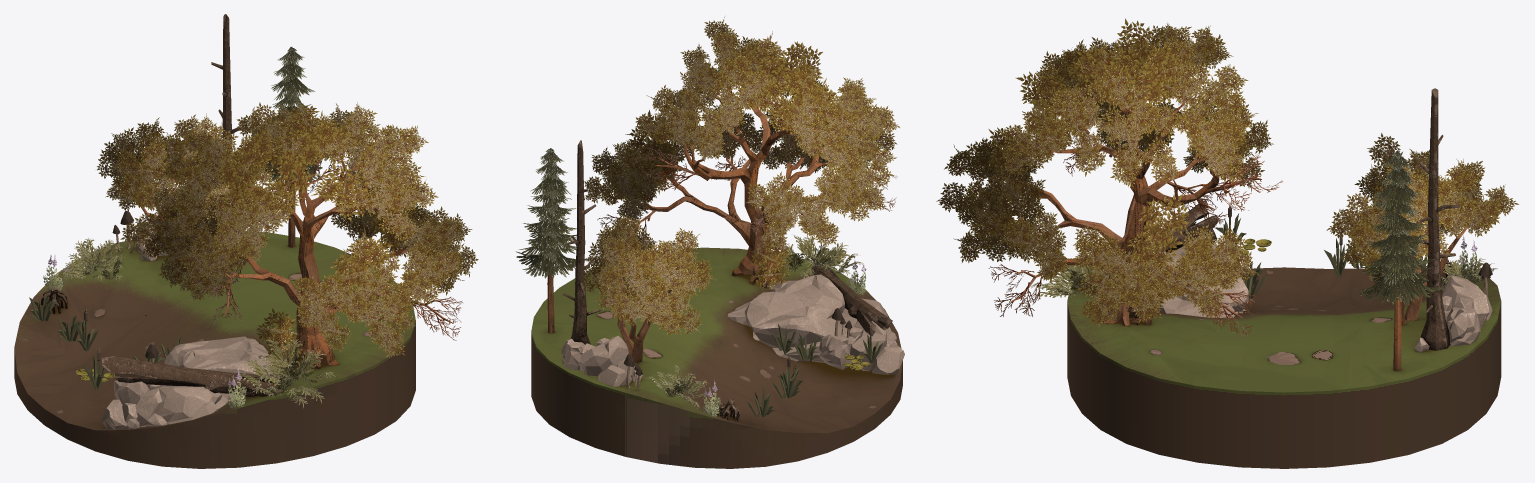
The model's file is lake-environment.glb.
3 renders of one model, left to right at view 1: azimuth 30°, elevation 25°; view 2: azimuth 150°, elevation 25°; view 3: azimuth 270°, elevation 25°, orthographic. The views are drawn at different scales.
Visible parts, largest first — view 1: ground_geo; view 2: ground_geo; view 3: ground_geo.
Part boxes in pixels (bbox=[...]): ground_geo: bbox=[14, 14, 478, 468]; ground_geo: bbox=[516, 17, 904, 468]; ground_geo: bbox=[936, 18, 1518, 468].
Size of the model in its own units: 1.91 by 1.66 by 2.48.
Materials: 1 (1 with a texture image).
